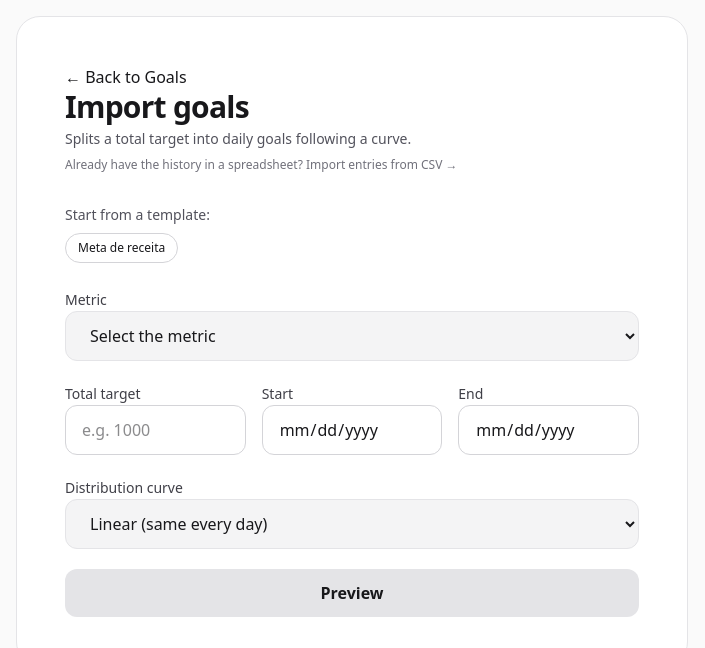
Test: ImportGoals — prefill por modelo (#143) › clicar no modelo pré-preenche métrica, alvo e curva
Click the button "Meta de receita" at {"x": 122, "y": 248}, box [65, 233, 178, 263]
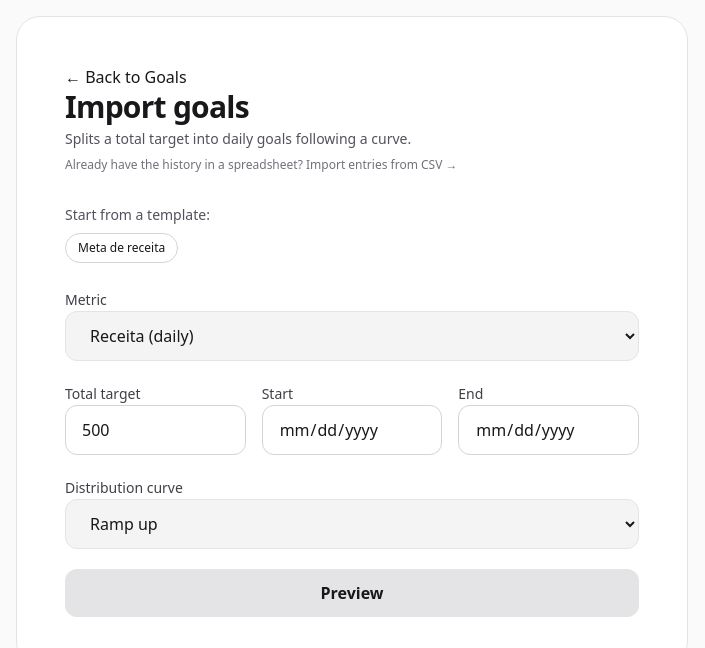
Expected: the dropdown named "metric_id" below "Metric" shows "Receita (daily)", [65, 311, 639, 361]
Expected: the number field named "alvo_total" holds "500", [65, 405, 246, 455]
Expected: the dropdown named "estrategia" below "Distribution curve" shows "Ramp up", [65, 499, 639, 549]
